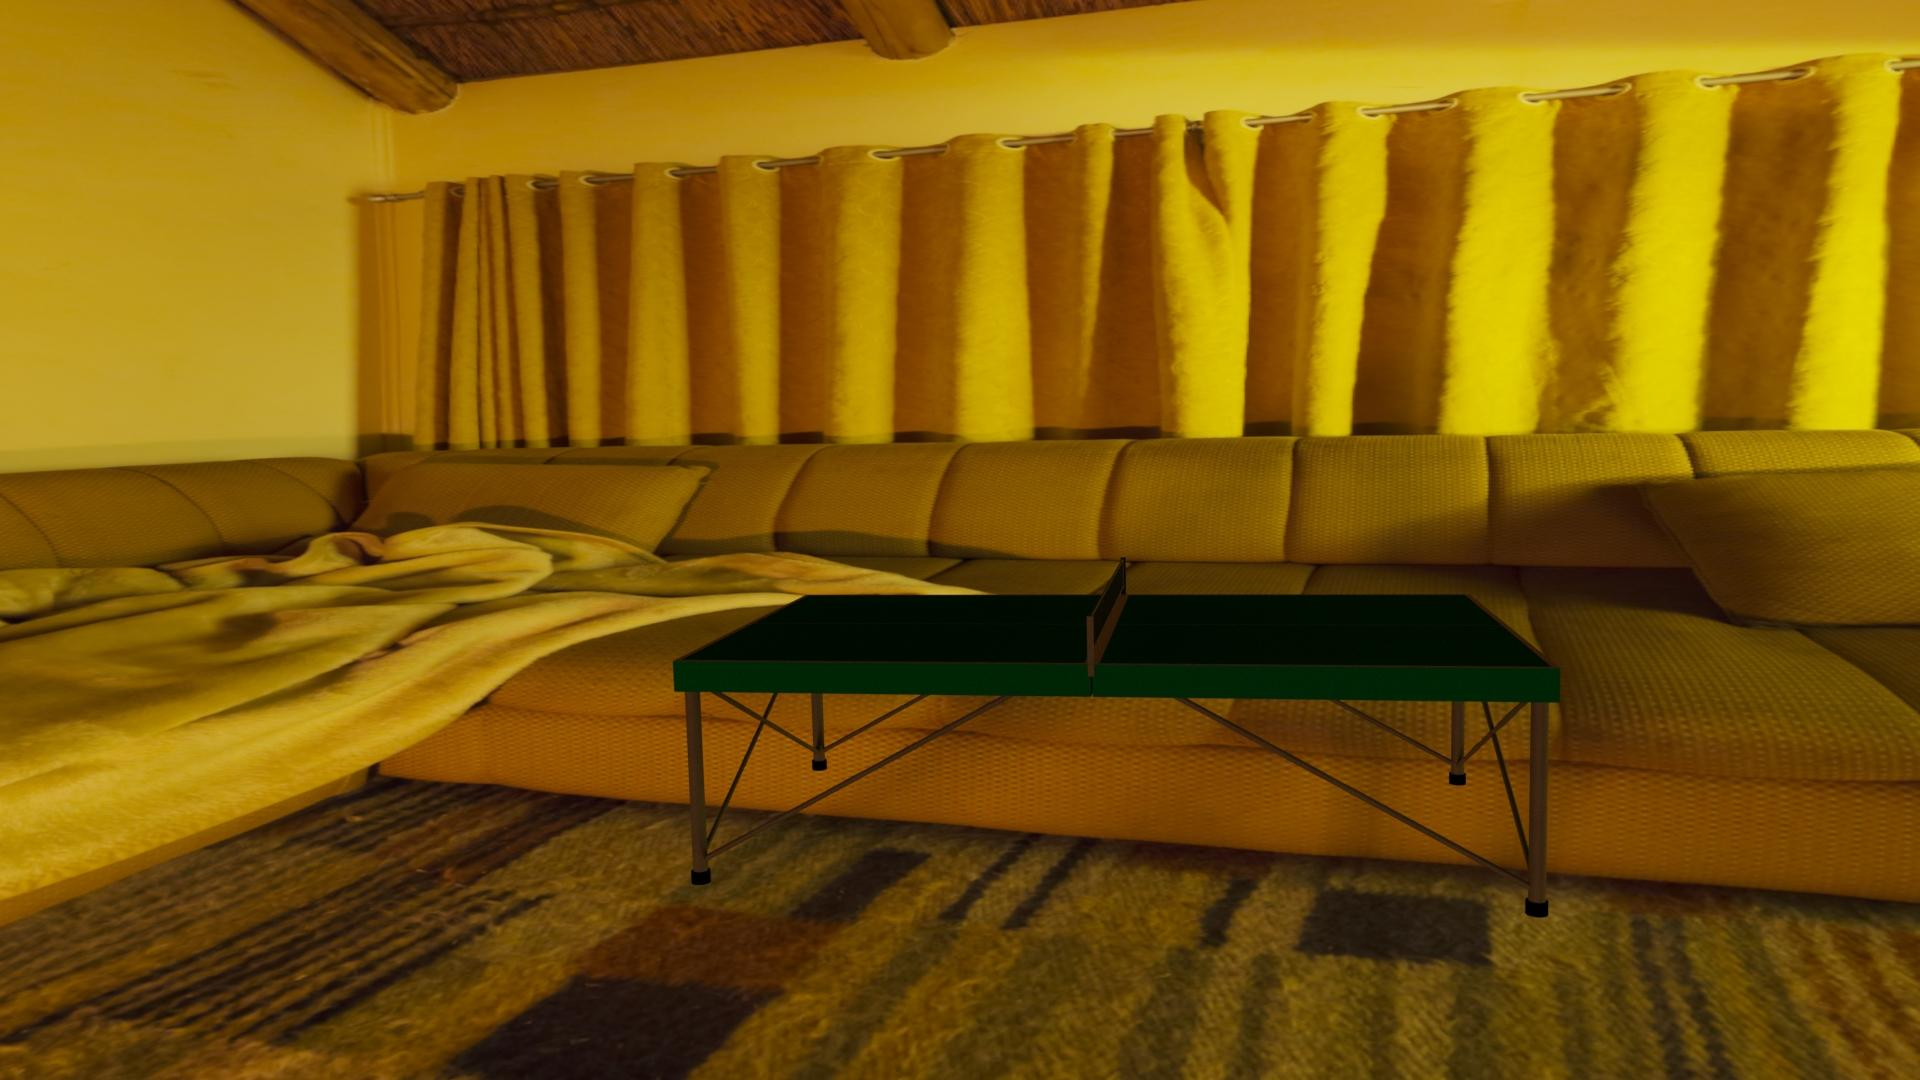table: (680, 595, 1552, 667)
